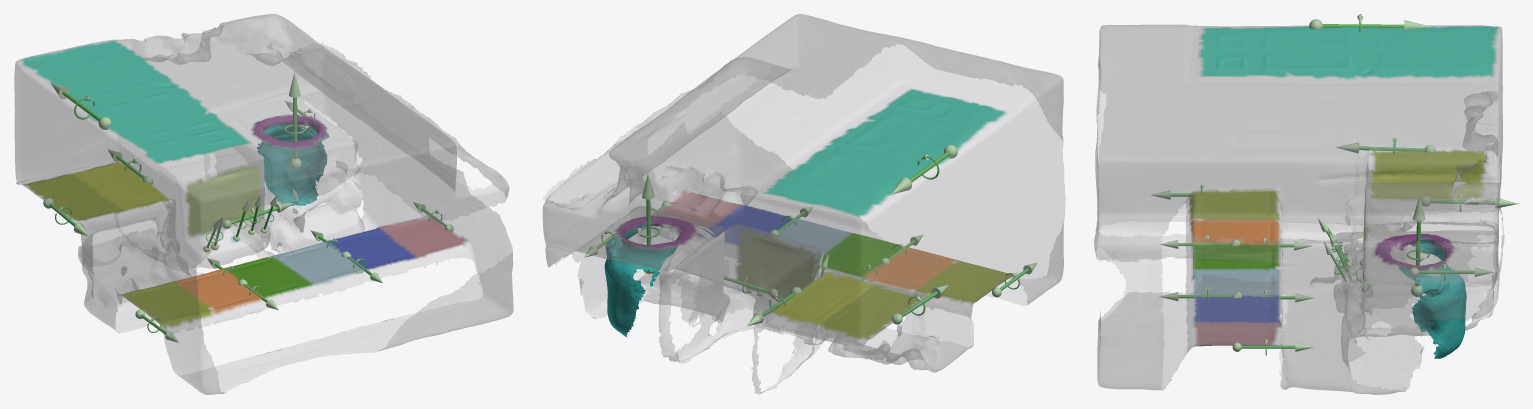
Rendered from scene_00103_00-articulation.compressed.gltf.
The picture shows the model from 3 angles, left to right: view 1: azimuth 30°, elevation 25°; view 2: azimuth 150°, elevation 25°; view 3: azimuth 270°, elevation 25°; orthographic projection. The views are drawn at different scales.
Bounding box in the file's own units: 2.73 × 1.7 × 2.89.
